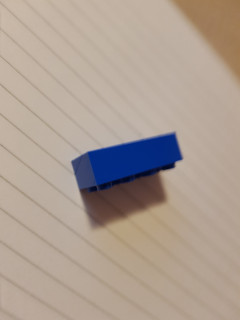2x4 blue: (70, 131, 184, 192)
